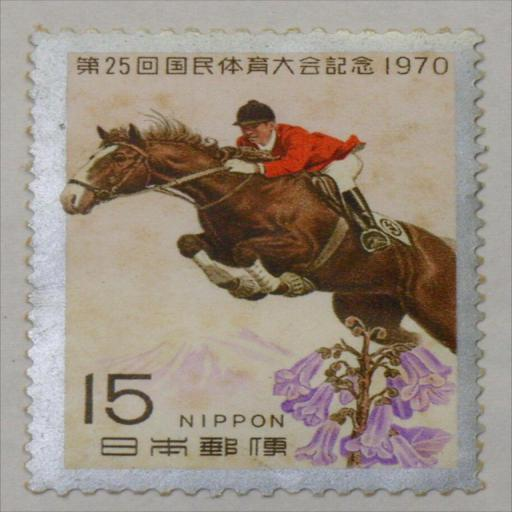horse: (62, 108, 459, 356)
